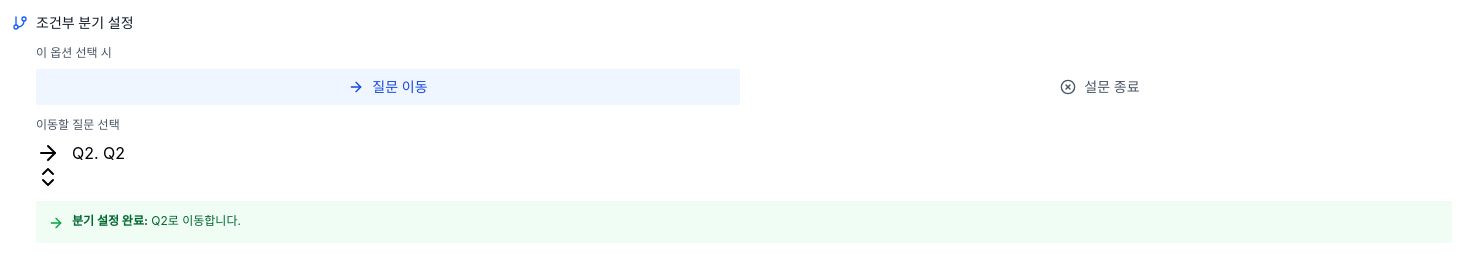
Test: BranchRuleEditor 종료 결과 선택 › 설문 종료를 고르면 종료 결과 선택이 나타난다
Click the button "설문 종료": x=1100, y=87 [748,69,1452,105]
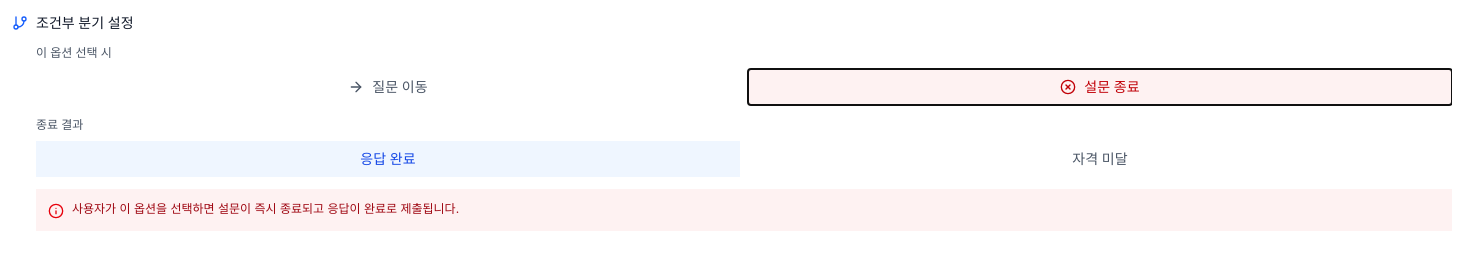
Expected: the button "응답 완료" is shown, [36,141,740,177]
Expected: the button "자격 미달" is shown, [748,141,1452,177]
